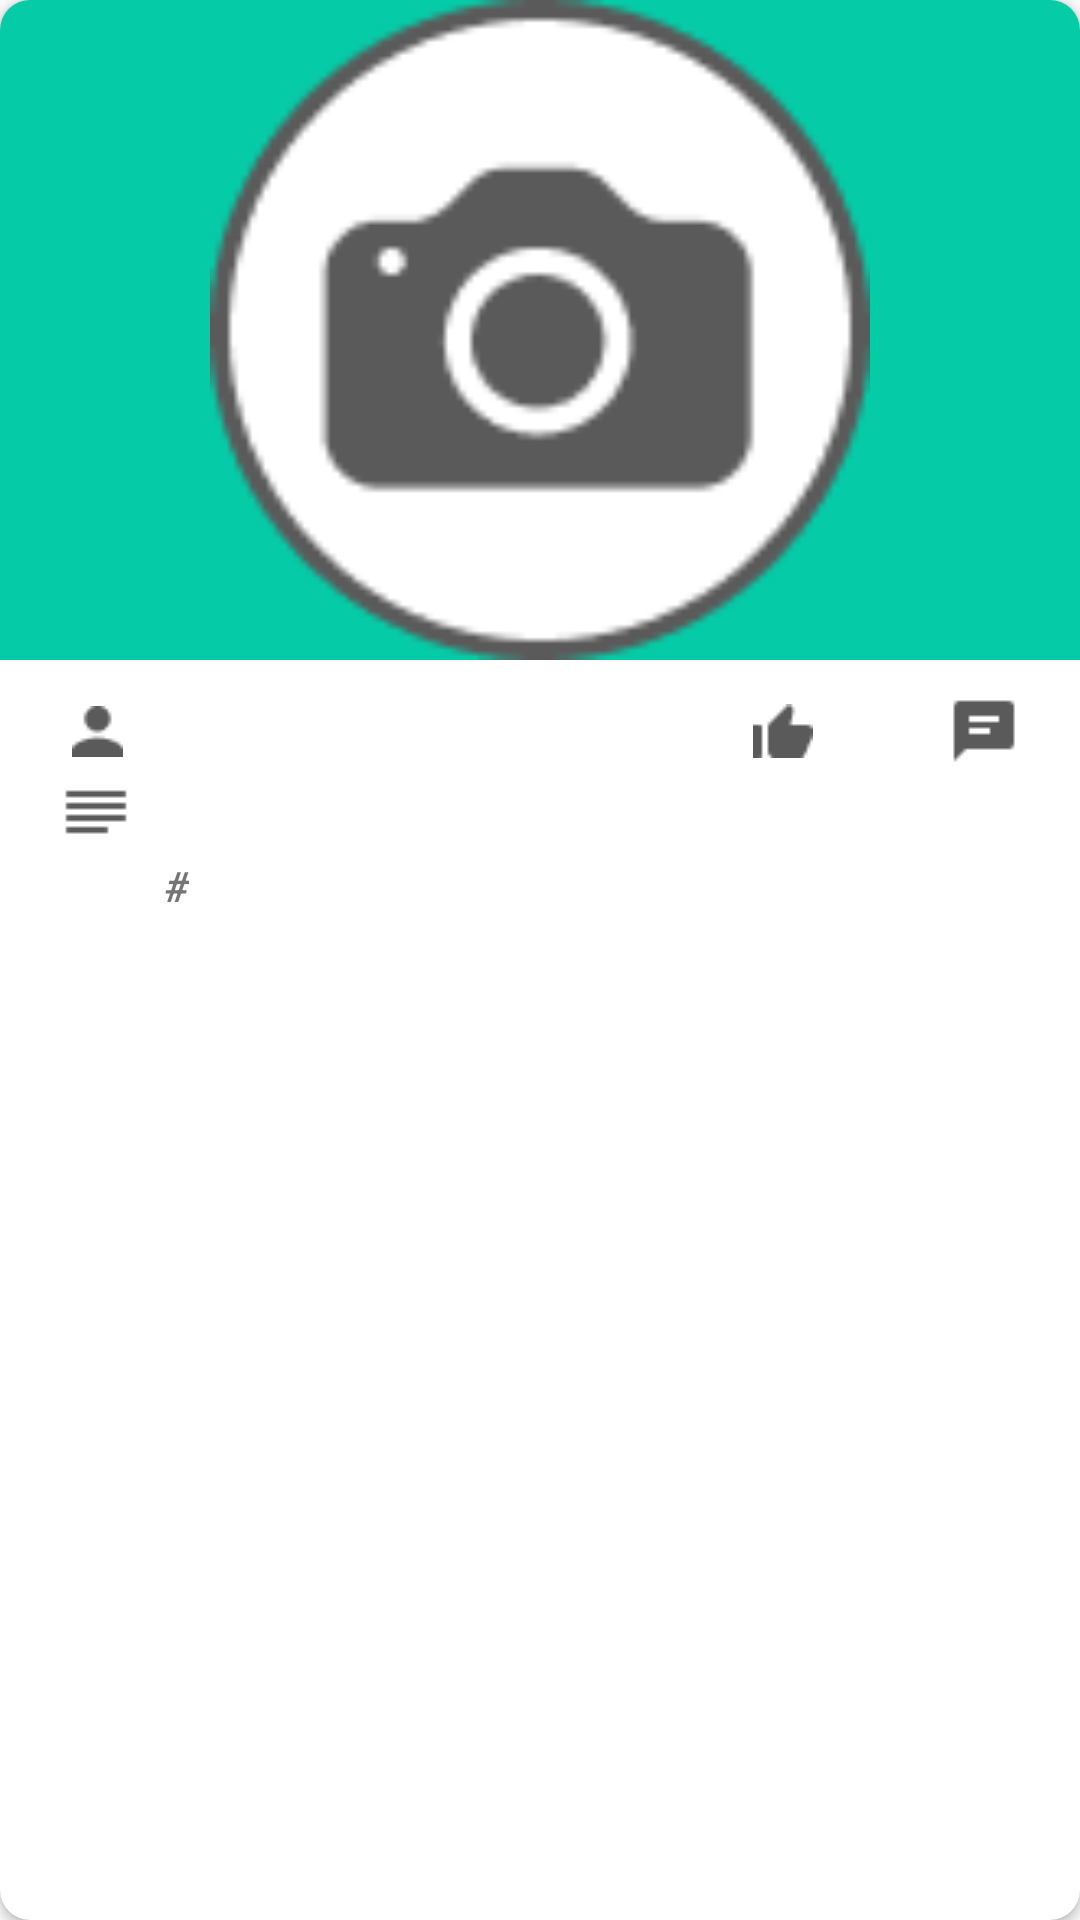

Named icons in this screenshot (1080x1920) and their bounding boxes, (x1, y1, x2, y2):
deskribapena ikonoa: (65, 790, 127, 834)
erabiltzaile argitalpena: (72, 706, 123, 757)
komentatu botoia: (953, 700, 1015, 762)
like ikonoa: (753, 704, 813, 758)
